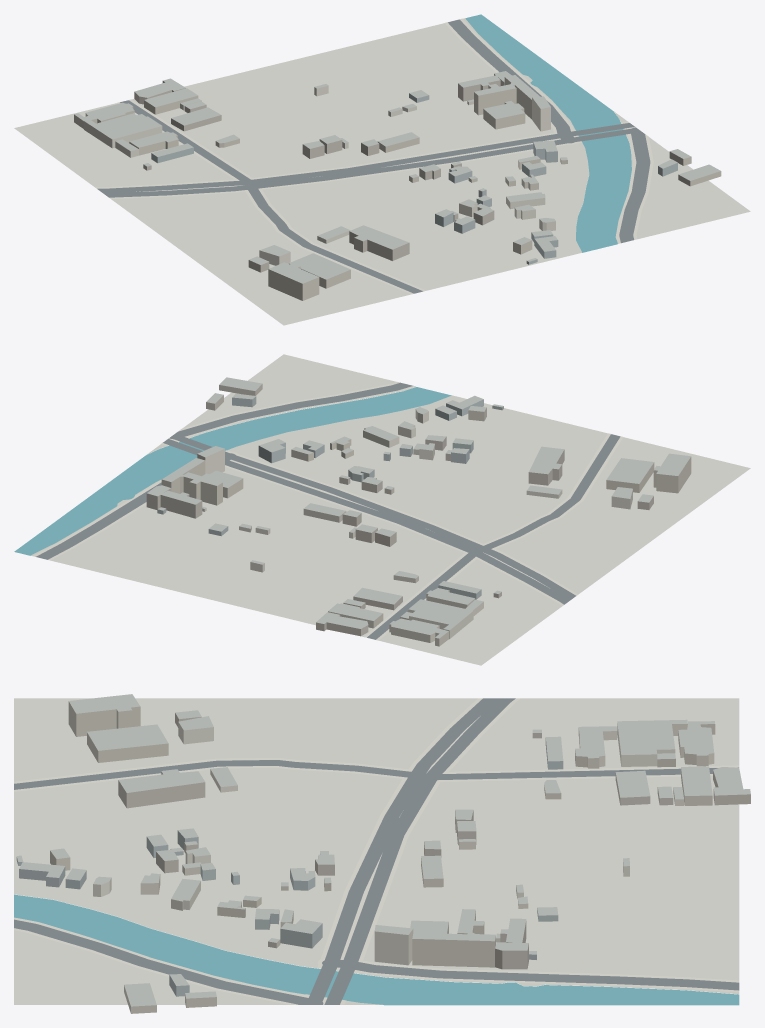
The picture shows the model from 3 angles, top to bottom: view 1: azimuth 30°, elevation 25°; view 2: azimuth 150°, elevation 25°; view 3: azimuth 270°, elevation 25°; orthographic projection. The views are drawn at different scales.
Visible parts, largest first — view 1: city; view 2: city; view 3: city.
Boxes of the visible parts, x1,y1,x2,y2 form: city: (14,14,750,325); city: (14,354,750,665); city: (14,694,750,1013).
Size of the model in its own units: 515 by 23.28 by 508.
